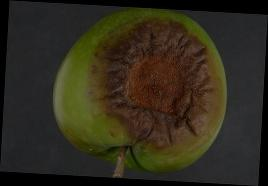rotten apple: (50, 8, 229, 175)
